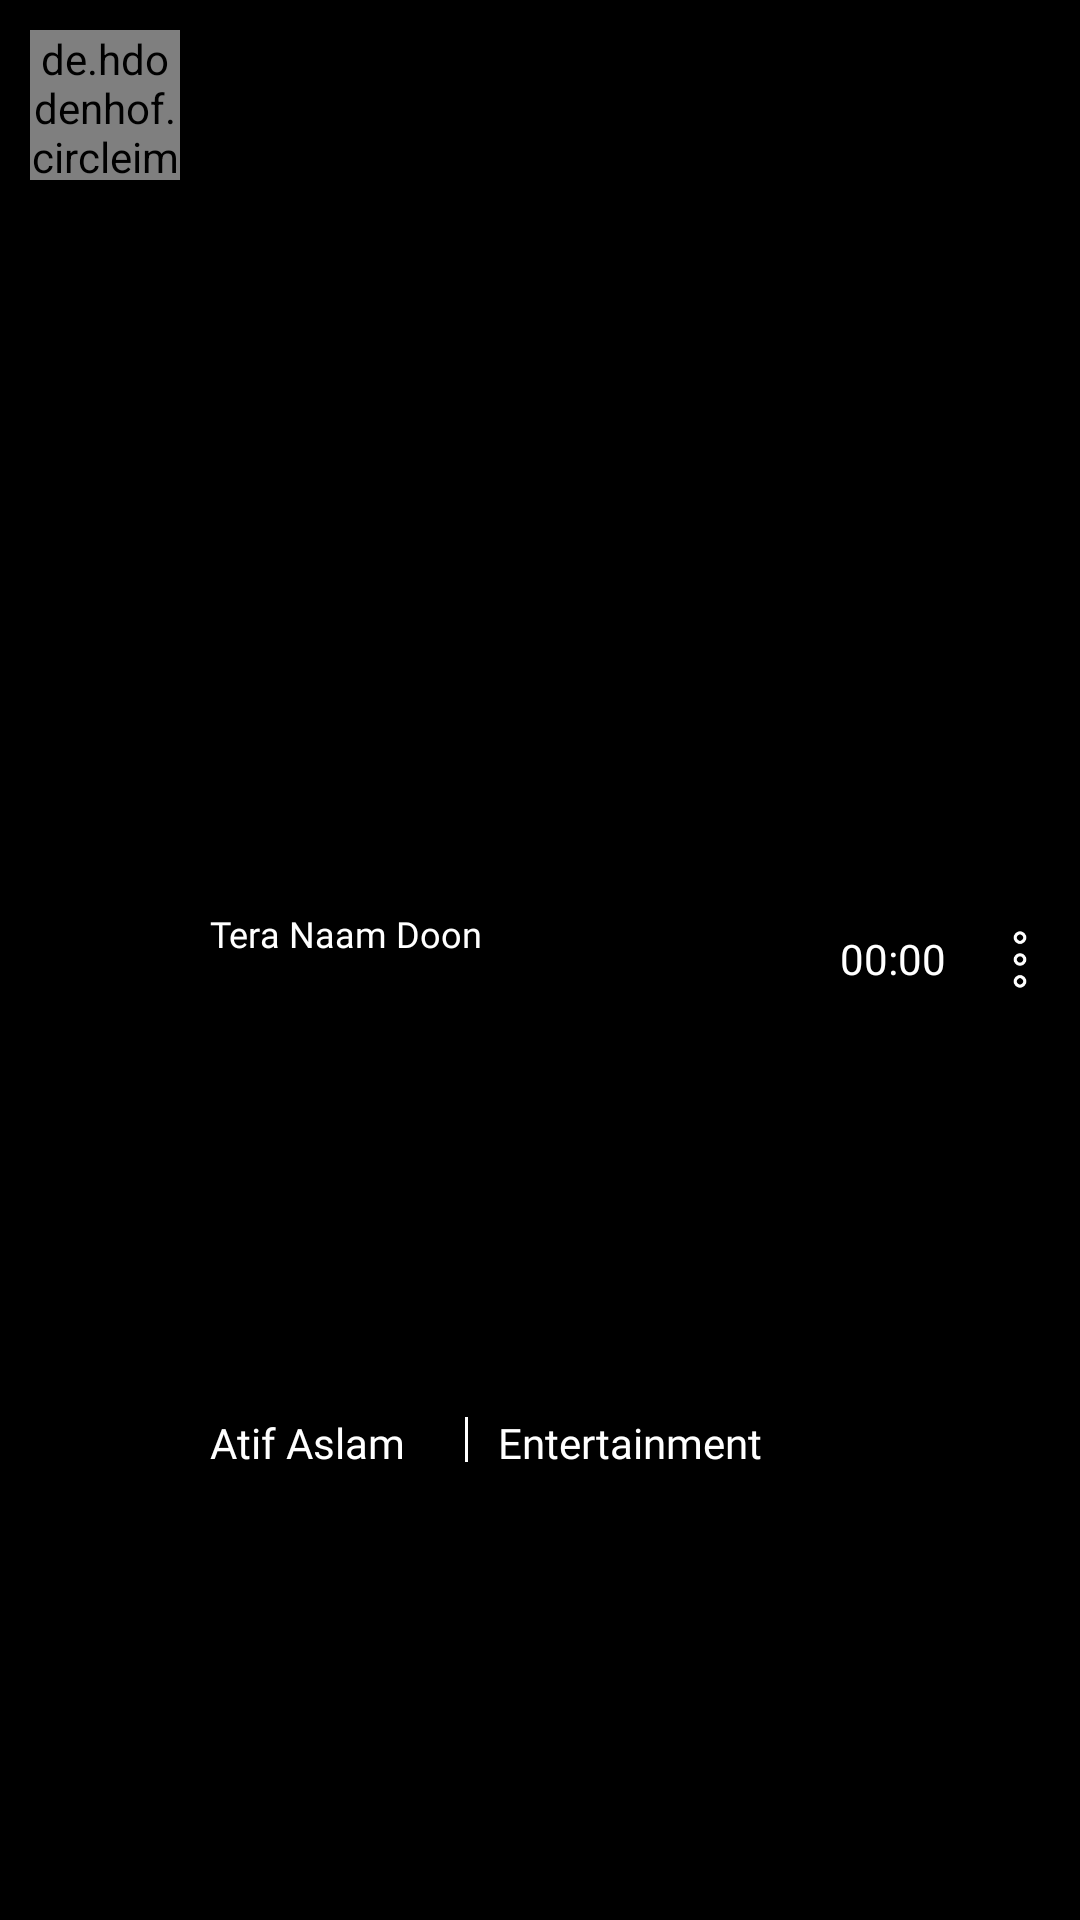

Where to tap for icons on this 1080 x 1920 app screen, as [x,y]:
dots: [1020,959]
